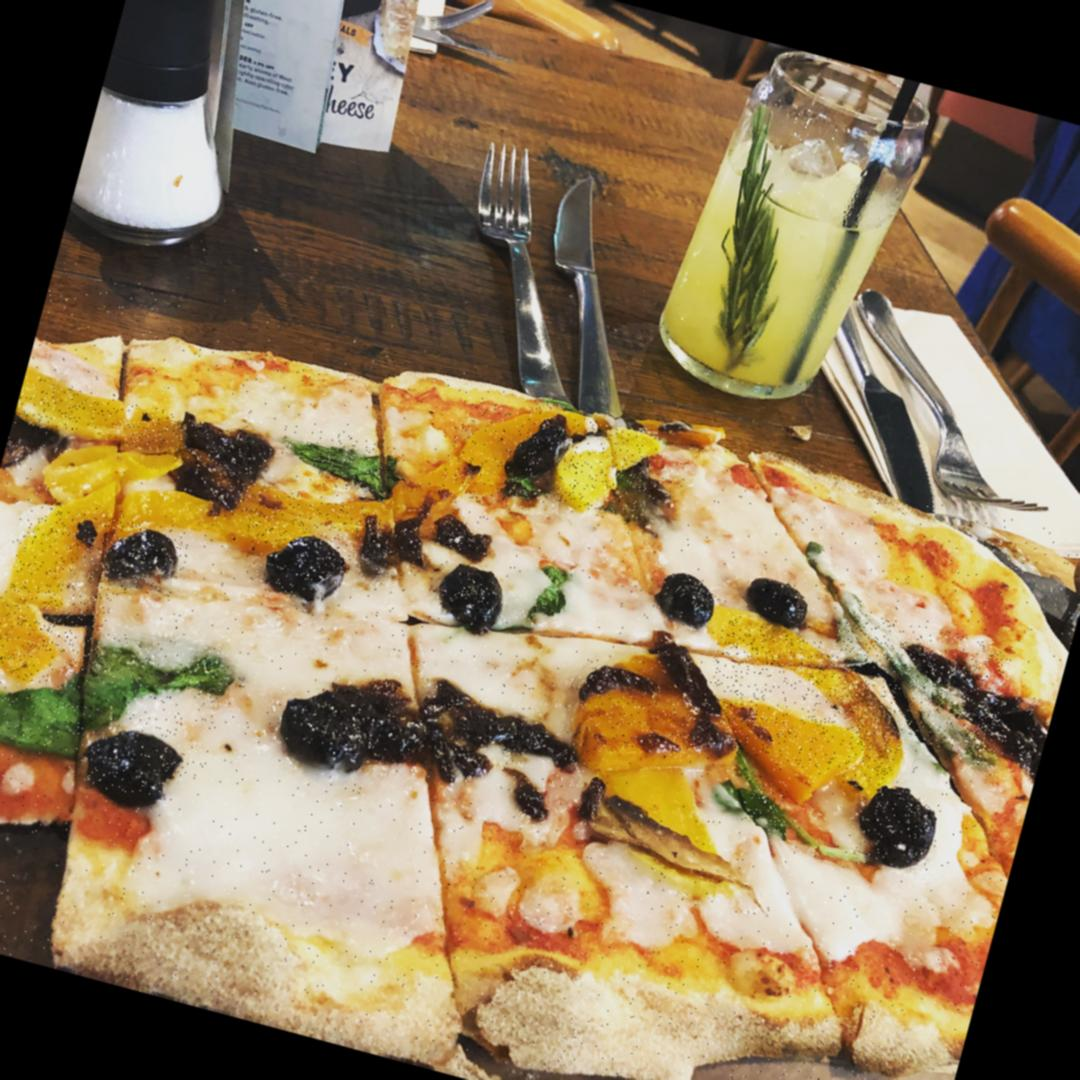Arugula: (0, 602, 232, 787), (818, 605, 1018, 761), (294, 422, 404, 505), (501, 552, 586, 654), (708, 766, 791, 832)
Olives: (84, 718, 180, 805), (101, 516, 194, 604), (852, 783, 936, 874), (260, 532, 352, 612), (175, 424, 256, 505), (580, 648, 656, 706), (742, 572, 811, 626), (434, 500, 490, 555), (652, 574, 706, 627), (446, 573, 497, 626)
Peppers: (697, 616, 918, 774), (0, 498, 134, 695), (583, 743, 752, 877), (719, 691, 902, 796), (13, 374, 204, 472), (42, 428, 217, 532), (567, 680, 711, 786), (234, 478, 384, 574), (437, 392, 552, 516), (554, 416, 662, 524)
Pizza: (0, 261, 1080, 1080)
